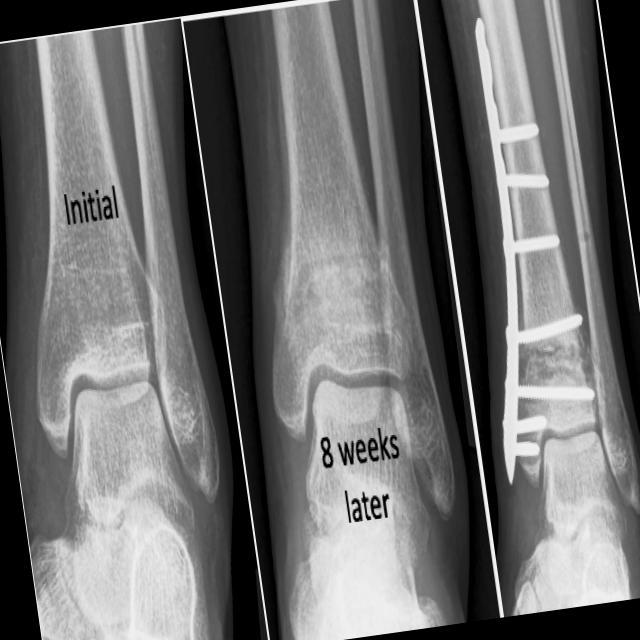HairLine Fracture: (124, 267, 164, 358)
